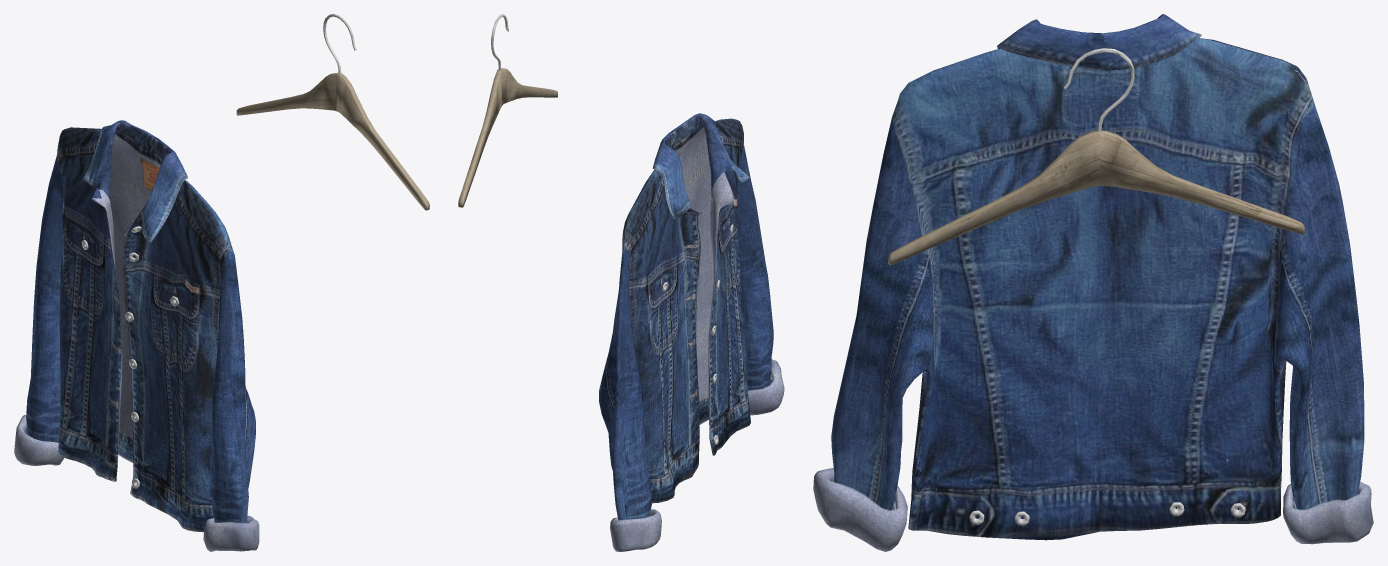
Rendered from rod-jean_jacket.glb.
3 views of the same model, side by side, from view 1: azimuth 30°, elevation 25°; view 2: azimuth 150°, elevation 25°; view 3: azimuth 270°, elevation 25° (orthographic). The views are drawn at different scales.
Parts seen in each view (by area): view 1: Jean_jacket.001, Hangers_for_clothes100.001; view 2: Jean_jacket.001, Hangers_for_clothes100.001; view 3: Jean_jacket.001, Hangers_for_clothes100.001.
Part boxes in pixels (bbox=[...]): Jean_jacket.001: bbox=[14, 120, 259, 551]; Hangers_for_clothes100.001: bbox=[236, 14, 429, 210]; Jean_jacket.001: bbox=[599, 113, 784, 551]; Hangers_for_clothes100.001: bbox=[458, 14, 557, 207]; Jean_jacket.001: bbox=[813, 14, 1373, 551]; Hangers_for_clothes100.001: bbox=[888, 48, 1304, 265].
Size of the model in its own units: 0.446 by 0.7381 by 0.5805.
Materials: 4 (2 with a texture image).
